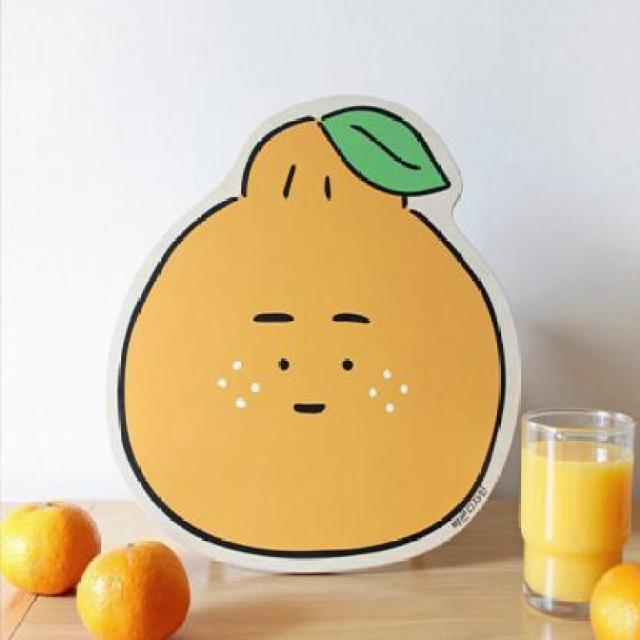Jeruk Sudah Matang: (0, 489, 103, 603), (78, 538, 194, 638), (586, 558, 640, 640)
